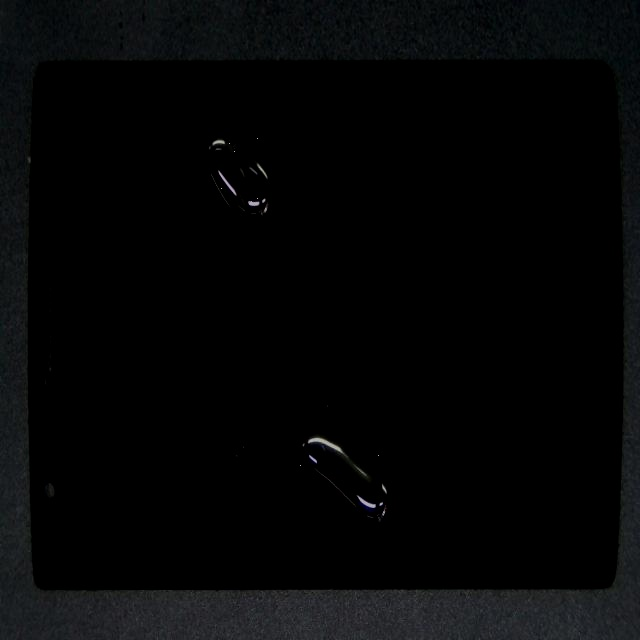oil: (167, 262, 558, 640), (108, 62, 316, 219)
